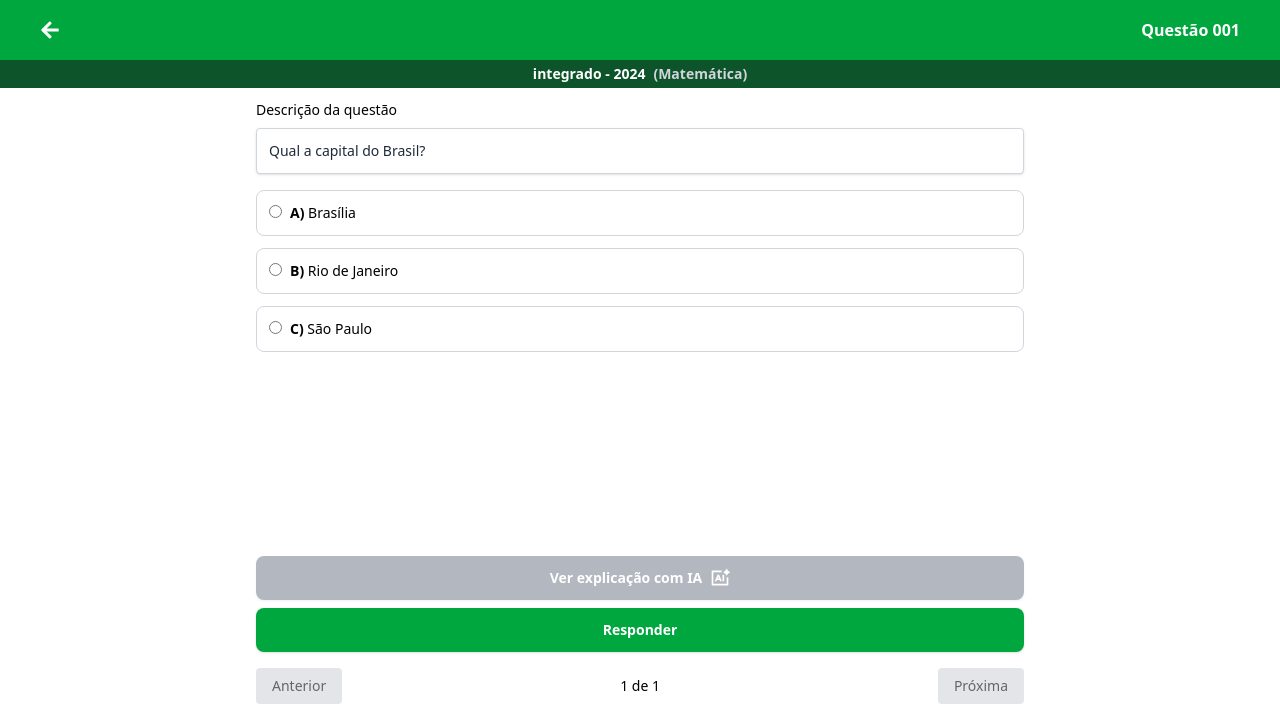
Test: Resolver Content › Explicacao com IA (Gemini) › deve carregar e mostrar explicacao da IA
The width and height of the screenshot is (1280, 720).
Click the text "a) Brasília" at (332, 212), box top-left (256, 190), bottom-right (1024, 236)
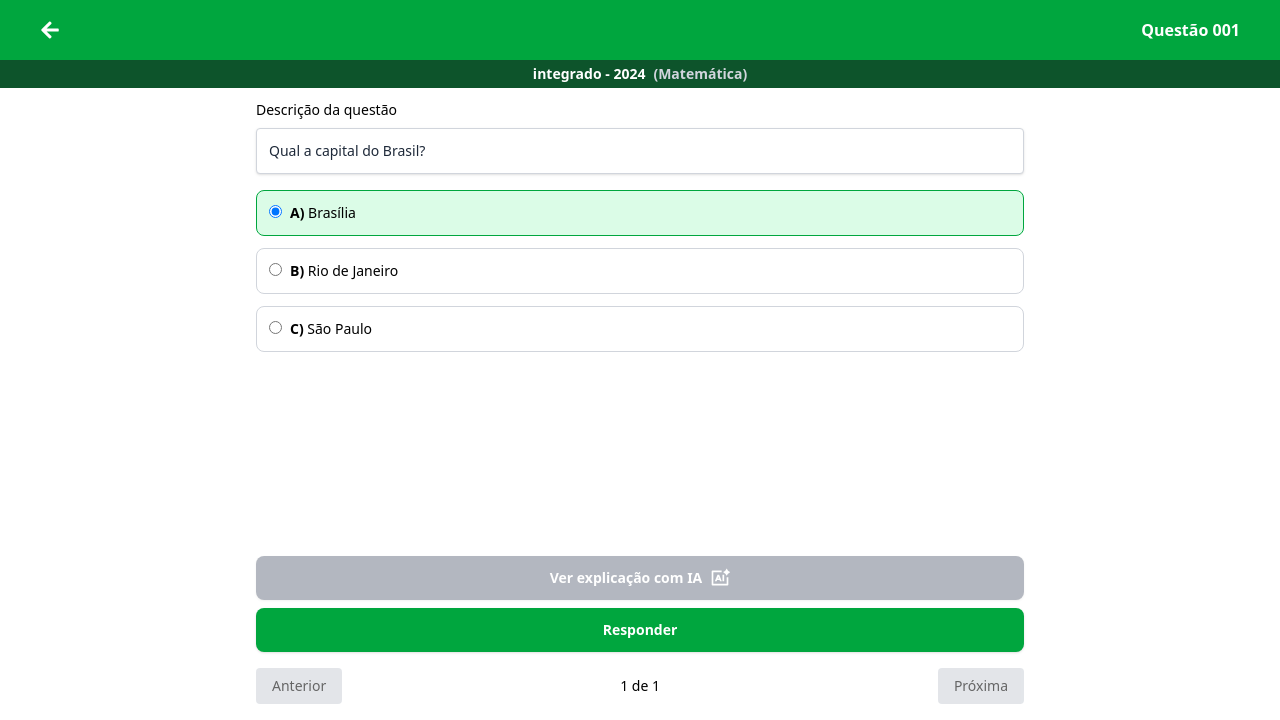
Click the button "Responder" at (640, 630), box top-left (256, 608), bottom-right (1024, 652)
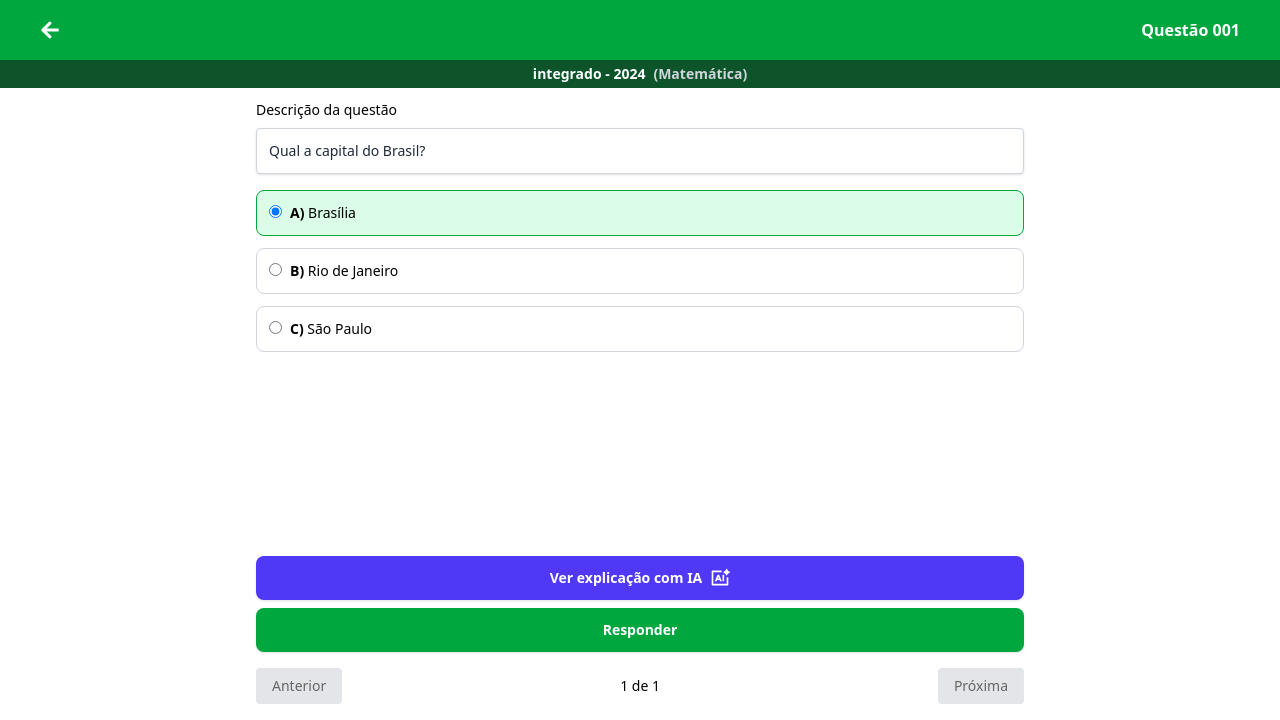
Expected: the button "Ver explicação com IA" is enabled
Click the button "Ver explicação com IA" at (640, 578), box top-left (256, 556), bottom-right (1024, 600)
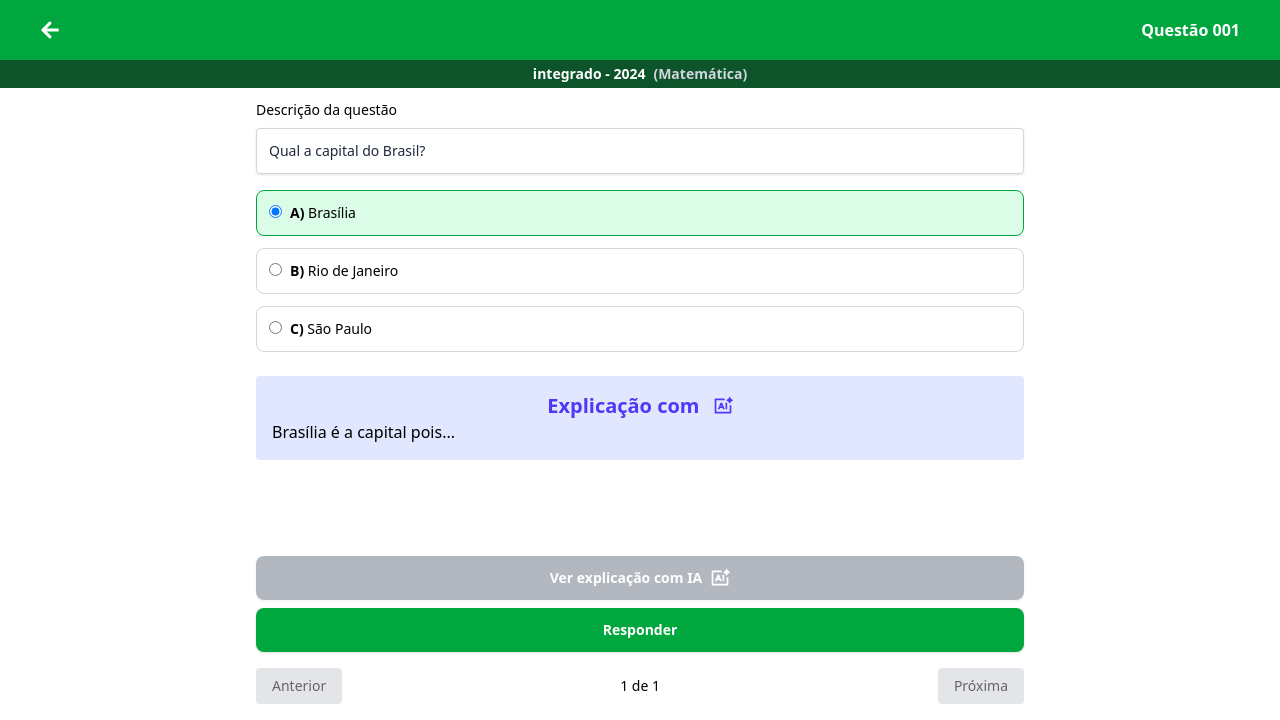
Expected: the text "Brasília é a capital pois..." is shown, top-left (272, 421), bottom-right (455, 443)
